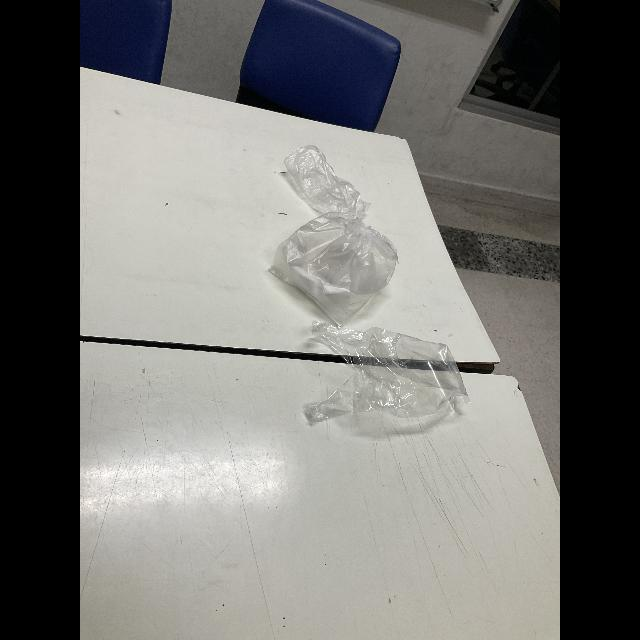plastic_bag: (284, 318, 492, 432), (255, 218, 415, 314)
scrap_plastic: (273, 141, 382, 225)
